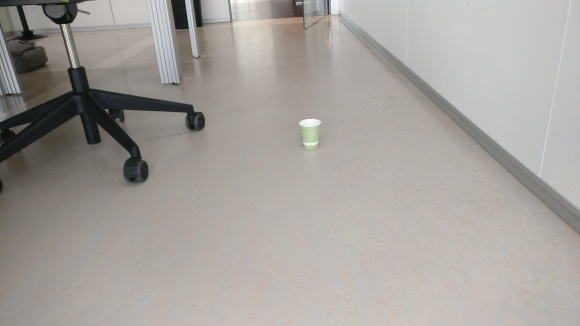cup: (298, 117, 322, 150)
